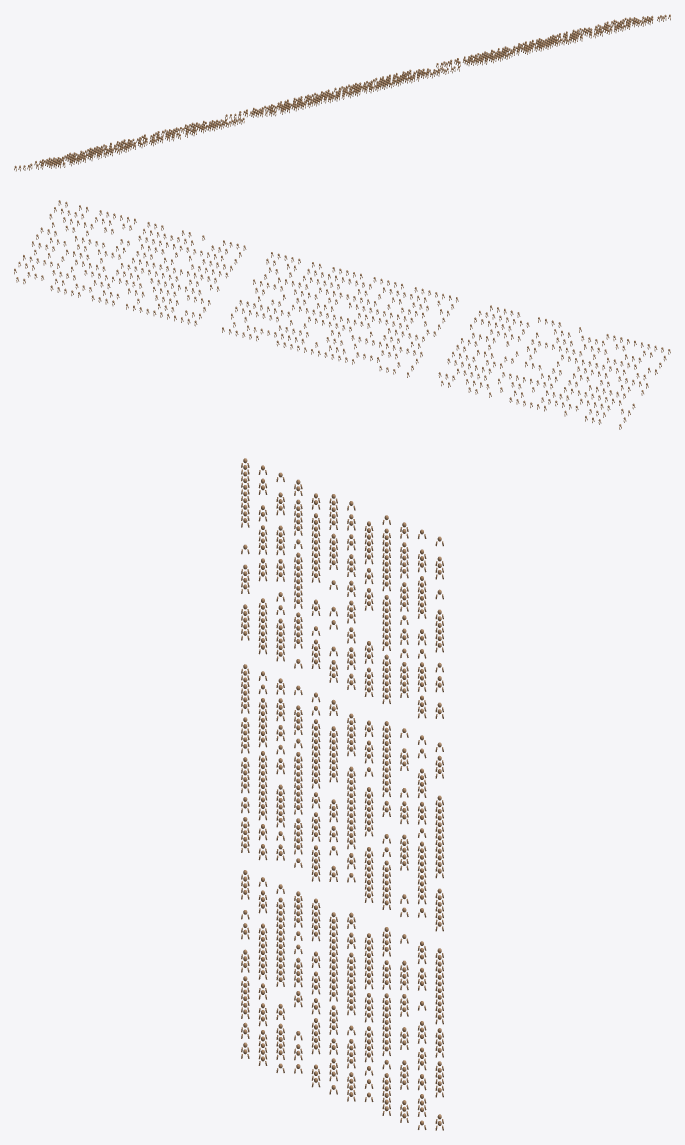
File: SM_DK_05_Grandstand_steps_seating_and_crowd_skin.fbx
3 views of the same model, one above another, from view 1: azimuth 30°, elevation 25°; view 2: azimuth 150°, elevation 25°; view 3: azimuth 270°, elevation 25° (orthographic). The views are drawn at different scales.
Visible parts, largest first — view 1: 05 Grandstand steps seating and crowd | skin; view 2: 05 Grandstand steps seating and crowd | skin; view 3: 05 Grandstand steps seating and crowd | skin.
Part boxes in pixels (x1=…): 05 Grandstand steps seating and crowd | skin: x1=14, y1=14, x2=670, y2=171; 05 Grandstand steps seating and crowd | skin: x1=14, y1=200, x2=670, y2=429; 05 Grandstand steps seating and crowd | skin: x1=241, y1=458, x2=443, y2=1130.
Size of the model in its own units: 7140 by 1033 by 496.
